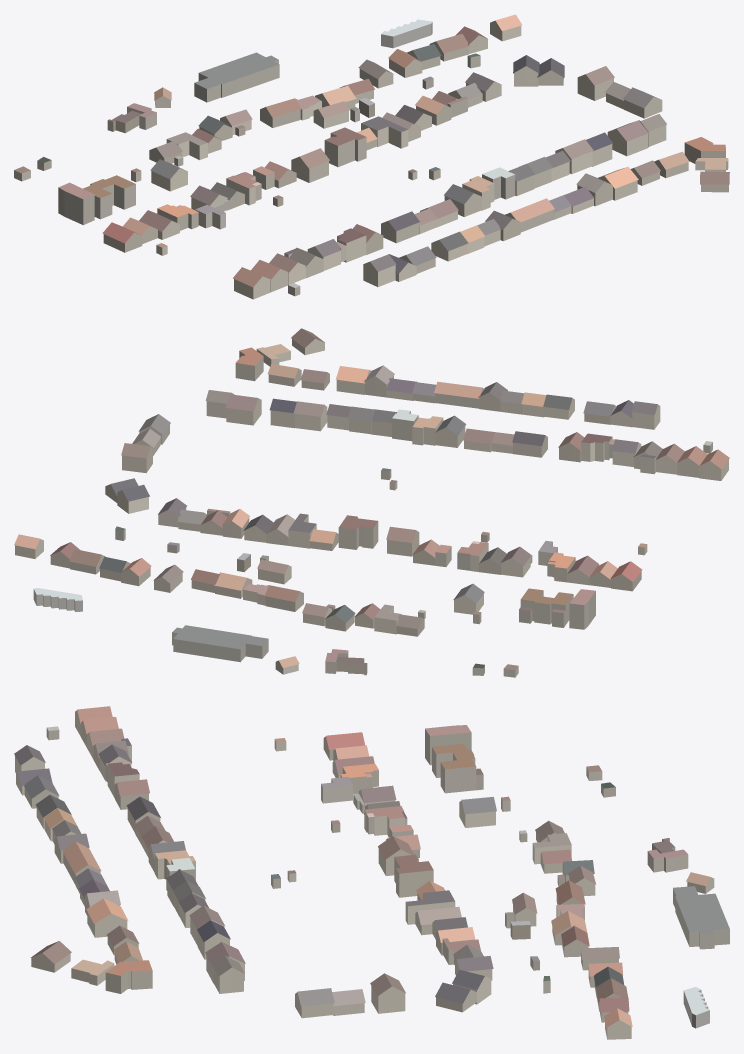
3 views of the same model, one above another, from view 1: azimuth 30°, elevation 25°; view 2: azimuth 150°, elevation 25°; view 3: azimuth 270°, elevation 25° (orthographic). The views are drawn at different scales.
Parts seen in each view (by area): view 1: tuile; view 2: tuile; view 3: tuile.
Boxes of the visible parts, x1,y1,x2,y2 form: tuile: (14, 14, 729, 299); tuile: (14, 328, 729, 677); tuile: (14, 706, 729, 1039).
Size of the model in its own units: 257 by 37.89 by 263.
